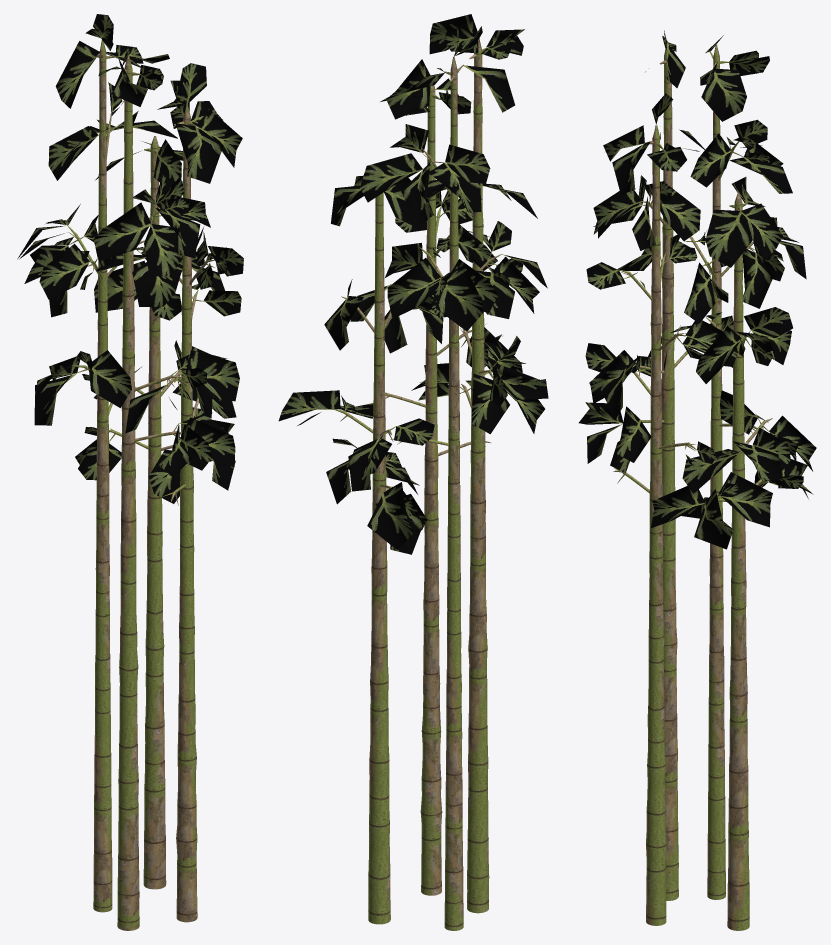
The model's file is Bamboo_4_Hero_GiantTimber_1504d2.glb.
3 views of the same model, side by side, from view 1: azimuth 30°, elevation 25°; view 2: azimuth 150°, elevation 25°; view 3: azimuth 270°, elevation 25° (orthographic). The views are drawn at different scales.
Size of the model in its own units: 2.25 by 8.39 by 2.07.
2 materials, 2 textured.
